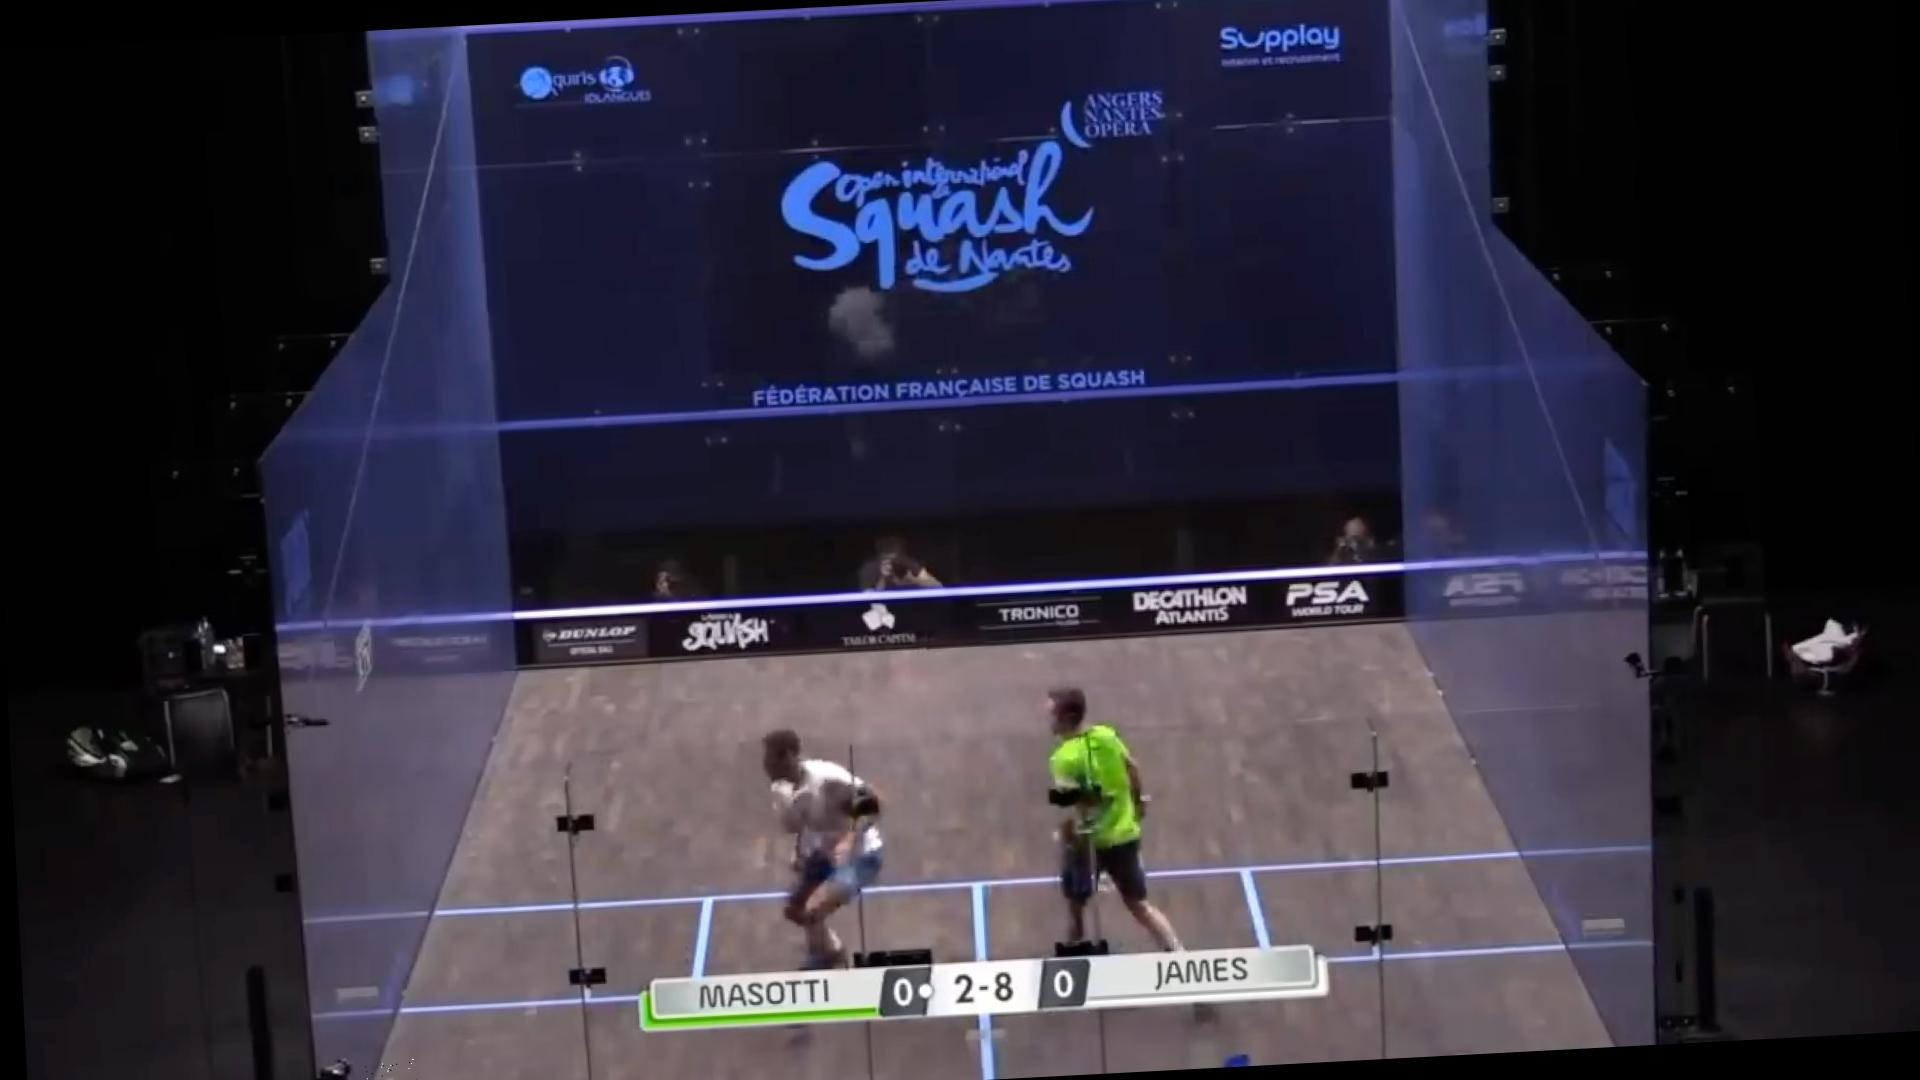Squash-Ball: (363, 1058, 419, 1080)
